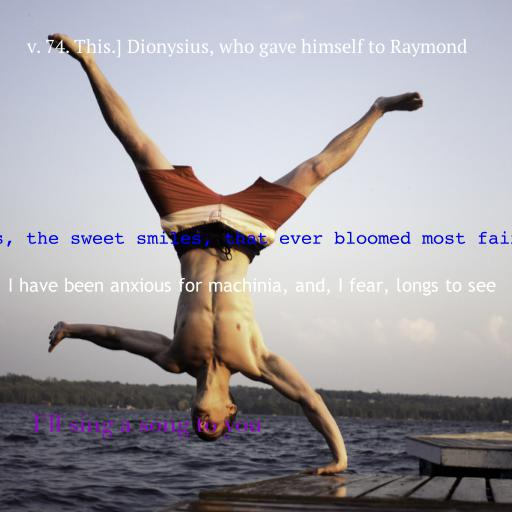Courier: (0, 231, 512, 248)
Didot: (32, 414, 262, 439)
PT Serif: (27, 38, 467, 58)
Trebuchet MS: (8, 277, 496, 296)
